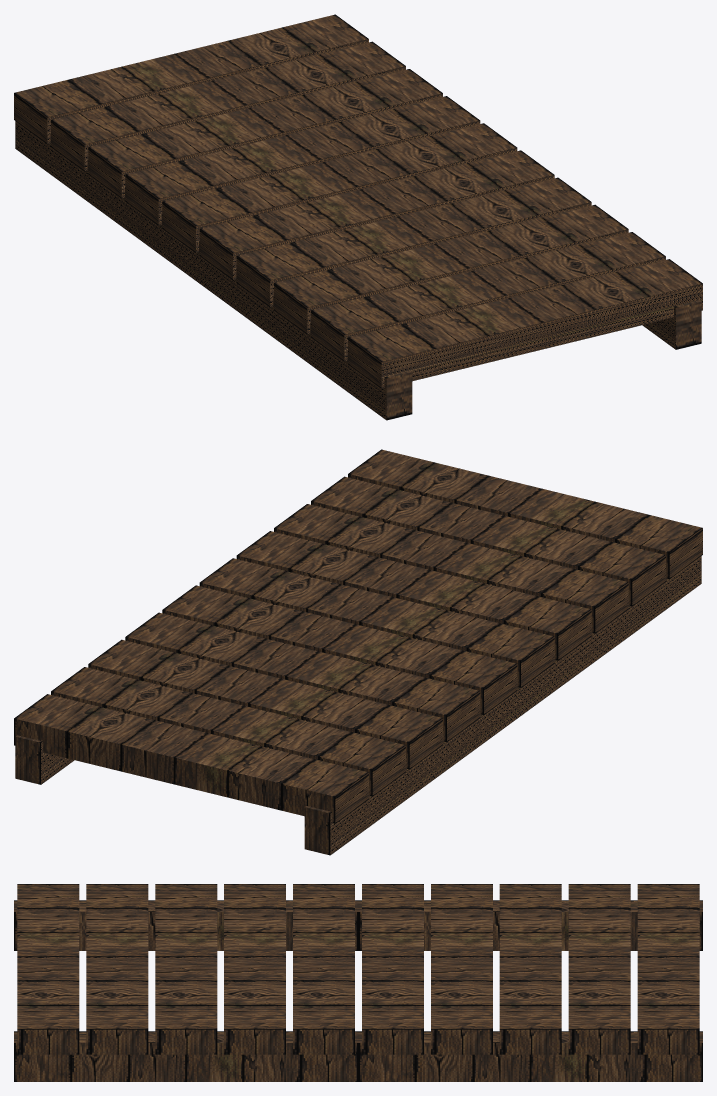
Rendered from M_Ponte_4m.obj.
3 views of the same model, one above another, from view 1: azimuth 30°, elevation 25°; view 2: azimuth 150°, elevation 25°; view 3: azimuth 270°, elevation 25° (orthographic). The views are drawn at different scales.
Visible parts, largest first — view 1: M_Ponte_4m; view 2: M_Ponte_4m; view 3: M_Ponte_4m.
Part boxes in pixels (bbox=[...]): M_Ponte_4m: bbox=[14, 14, 702, 420]; M_Ponte_4m: bbox=[14, 449, 702, 855]; M_Ponte_4m: bbox=[14, 884, 702, 1081].
Bounding box in the file's own units: 2 × 0.345 × 4.
1 material, 1 textured.
